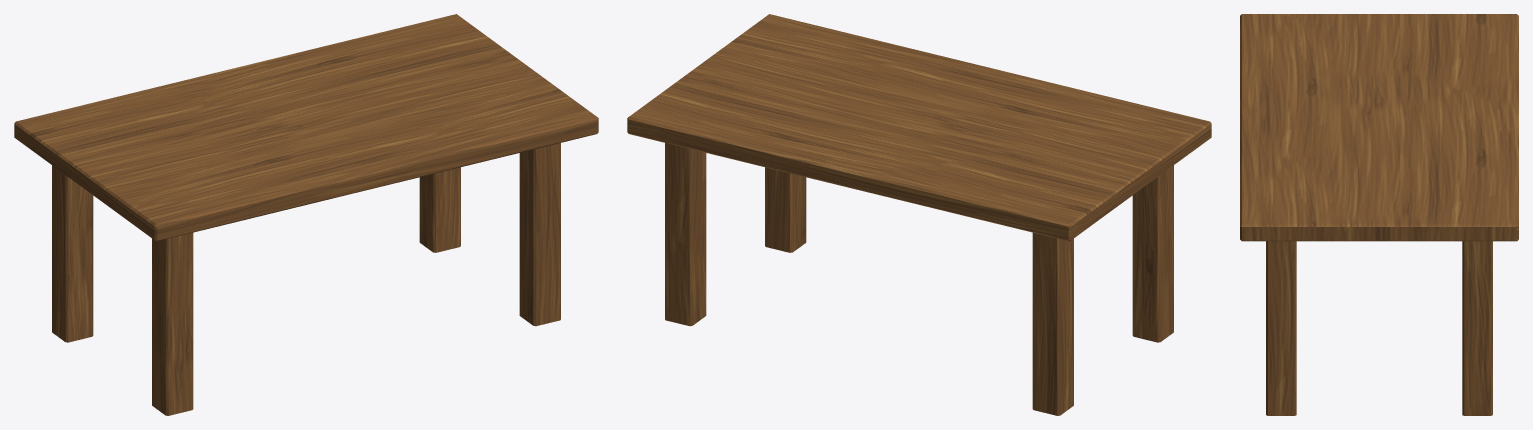
File: simple_table.fbx
3 views of the same model, side by side, from view 1: azimuth 30°, elevation 25°; view 2: azimuth 150°, elevation 25°; view 3: azimuth 270°, elevation 25° (orthographic). The views are drawn at different scales.
Parts seen in each view (by area): view 1: Cube; view 2: Cube; view 3: Cube.
Boxes of the visible parts, x1,y1,x2,y2 form: Cube: [14, 14, 598, 415]; Cube: [627, 14, 1211, 415]; Cube: [1240, 14, 1518, 415].
Bounding box in the file's own units: 180 × 80 × 100.
1 material, 1 textured.
